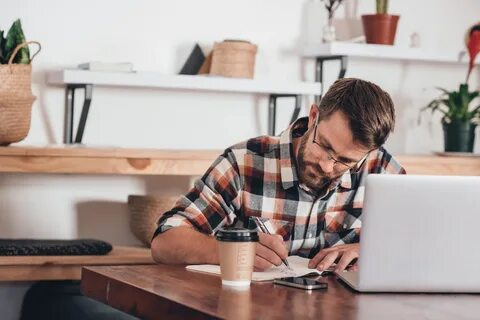awake: (150, 76, 407, 275)
